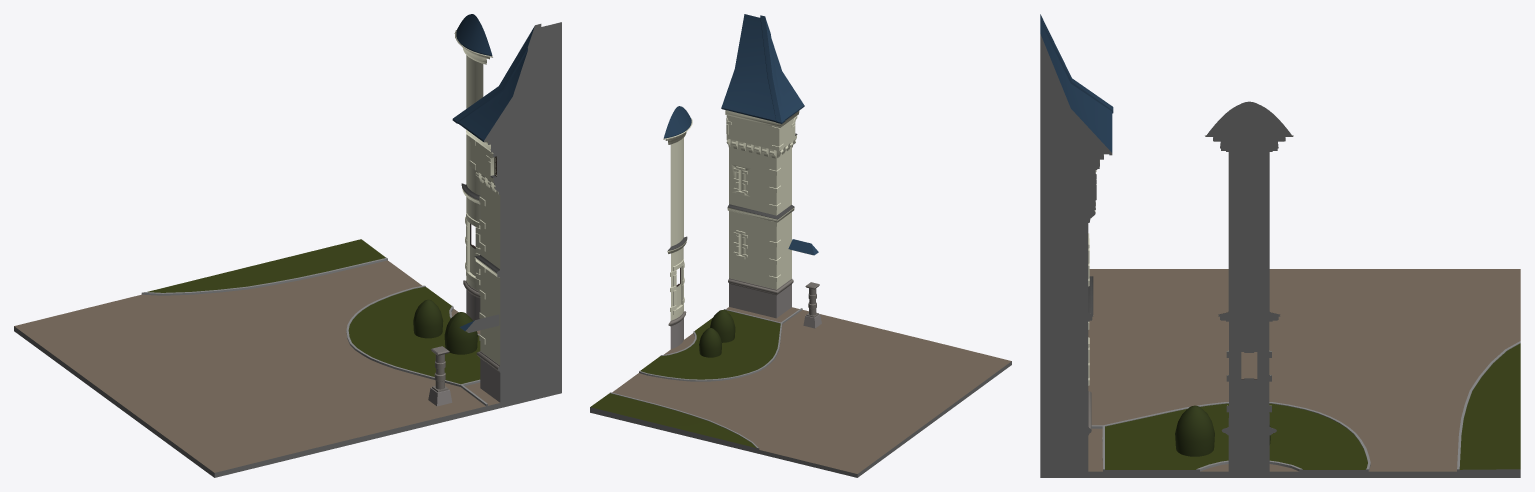
3 views of the same model, side by side, from view 1: azimuth 30°, elevation 25°; view 2: azimuth 150°, elevation 25°; view 3: azimuth 270°, elevation 25° (orthographic). The views are drawn at different scales.
Visible parts, largest first — view 1: Plane.008; view 2: Plane.008; view 3: Plane.008.
Boxes of the visible parts, x1,y1,x2,y2 form: Plane.008: (14,14,561,477); Plane.008: (590,14,1011,477); Plane.008: (1040,14,1520,477).
Size of the model in its own units: 4 by 4.12 by 4.
